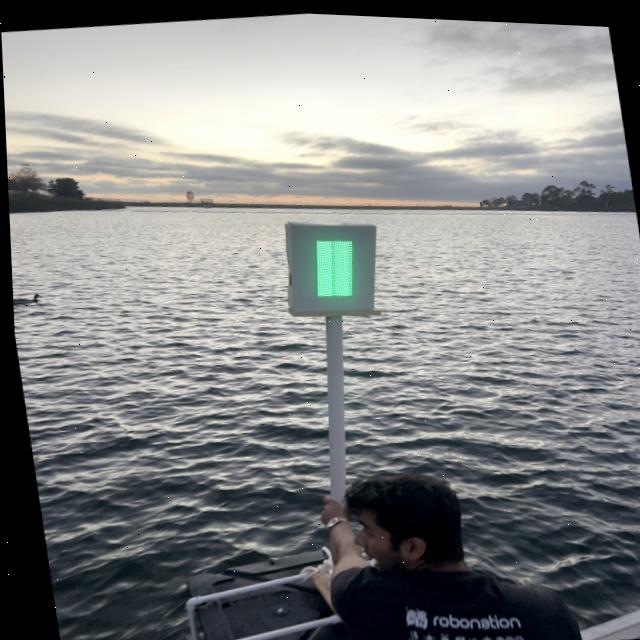led: (284, 210, 374, 312)
